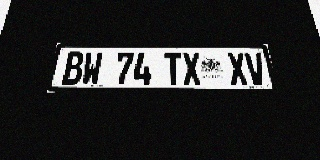4: (133, 52, 152, 85)
7: (114, 52, 134, 85)
B: (62, 52, 85, 85)
T: (164, 52, 183, 85)
V: (244, 53, 267, 85)
W: (81, 52, 103, 85)
X: (227, 53, 249, 85), (182, 52, 202, 85)
